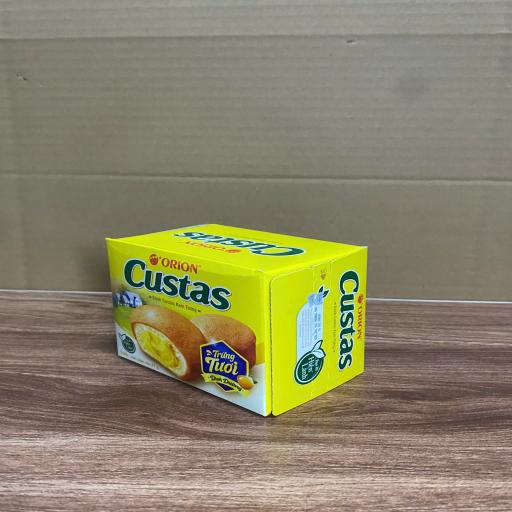custas: (105, 224, 368, 417)
